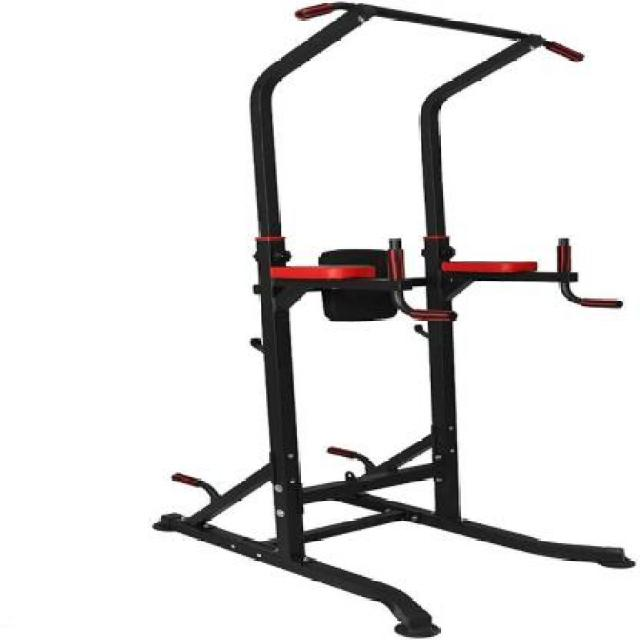chinning dipping: (153, 0, 629, 635)
